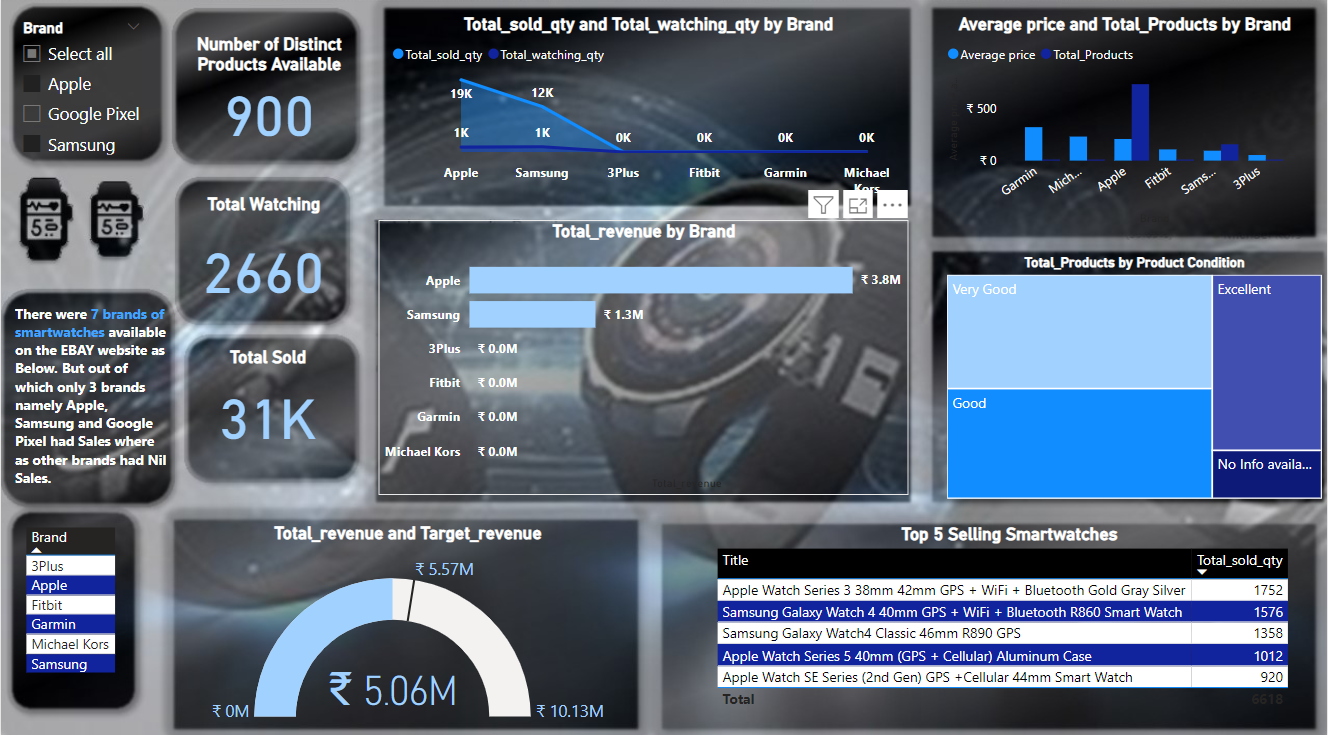

This screenshot's page, from the dashboard's own definition file:
{"tool":"powerbi","page":{"name":"Dark Theme","canvas":[1280,720],"ordinal":0},"visuals":[{"type":"card","title":"Number of Distinct Products Available","fields":{"Values":["Measures Table.Total_Products"]},"box":[165,37.5,187.5,107.5],"z":0},{"type":"card","title":"Total Sold","fields":{"Values":["Measures Table.Total_sold_qty"]},"box":[183.8,338.8,148.8,107.5],"z":1000},{"type":"card","title":"Total Watching","fields":{"Values":["Measures Table.Total_watching_qty"]},"box":[175,191.2,157.5,120],"z":2000},{"type":"gauge","fields":{"Y":["Measures Table.Total_revenue"],"TargetValue":["Measures Table.Target_revenue"]},"box":[165,508.8,455,197.5],"z":3000},{"type":"barChart","fields":{"Category":["ebaysmartwatch_data.Brand"],"Y":["Measures Table.Total_revenue"]},"box":[363.8,217.5,512.5,265],"z":4000},{"type":"areaChart","fields":{"Category":["ebaysmartwatch_data.Brand"],"Y":["Measures Table.Total_sold_qty","Measures Table.Total_watching_qty"]},"box":[372.8,18.1,504.3,184.6],"z":5000},{"type":"clusteredColumnChart","fields":{"Category":["ebaysmartwatch_data.Brand"],"Y":["Measures Table.Average price","Measures Table.Total_Products"]},"box":[908.8,17.5,352.5,208.8],"z":6000},{"type":"treemap","fields":{"Group":["ebaysmartwatch_data.Product Condition"],"Values":["Measures Table.Total_Products"]},"box":[908.8,251.2,371.2,240],"z":7000},{"type":"slicer","fields":{"Values":["Brandslicer.Brand"]},"box":[8.8,17.5,138.8,145],"z":8000},{"type":"textbox","box":[8.8,293.8,158.8,197.5],"z":9000},{"type":"tableEx","title":"Top 5 Selling Smartwatches","fields":{"Values":["ebaysmartwatch_data.Title","Measures Table.Total_sold_qty"]},"box":[685,510,576.2,185],"z":10000},{"type":"tableEx","fields":{"Values":["ebaysmartwatch_data.Brand"]},"box":[17.5,508.8,108.8,197.5],"z":11000}]}

Visuals, with their boxes in screenshot pixels (x1, y1, x2, y2), scaled from the page's 1280x720 canvas onto the 1328x735 screenshot:
"Number of Distinct Products Available" card: (x1=171, y1=38, x2=366, y2=148)
"Total Sold" card: (x1=191, y1=346, x2=345, y2=456)
"Total Watching" card: (x1=182, y1=195, x2=345, y2=318)
gauge - Measures Table.Total_revenue x Measures Table.Target_revenue: (x1=171, y1=519, x2=643, y2=721)
barChart - ebaysmartwatch_data.Brand x Measures Table.Total_revenue: (x1=377, y1=222, x2=909, y2=493)
areaChart - ebaysmartwatch_data.Brand x Measures Table.Total_sold_qty: (x1=387, y1=18, x2=910, y2=207)
clusteredColumnChart - ebaysmartwatch_data.Brand x Measures Table.Average price: (x1=943, y1=18, x2=1309, y2=231)
treemap - ebaysmartwatch_data.Product Condition x Measures Table.Total_Products: (x1=943, y1=256, x2=1327, y2=501)
slicer - Brandslicer.Brand: (x1=9, y1=18, x2=153, y2=166)
textbox: (x1=9, y1=300, x2=174, y2=502)
"Top 5 Selling Smartwatches" tableEx: (x1=711, y1=521, x2=1308, y2=709)
tableEx - ebaysmartwatch_data.Brand: (x1=18, y1=519, x2=131, y2=721)
